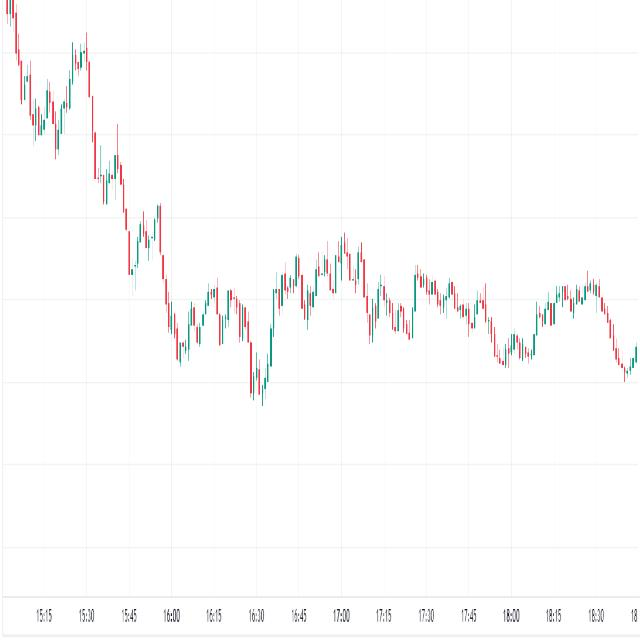Channel-down: (33, 2, 235, 445)
